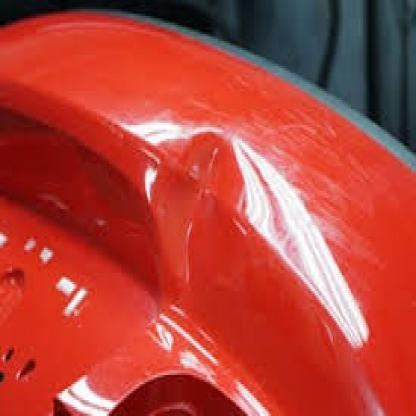dent: (146, 136, 262, 304)
